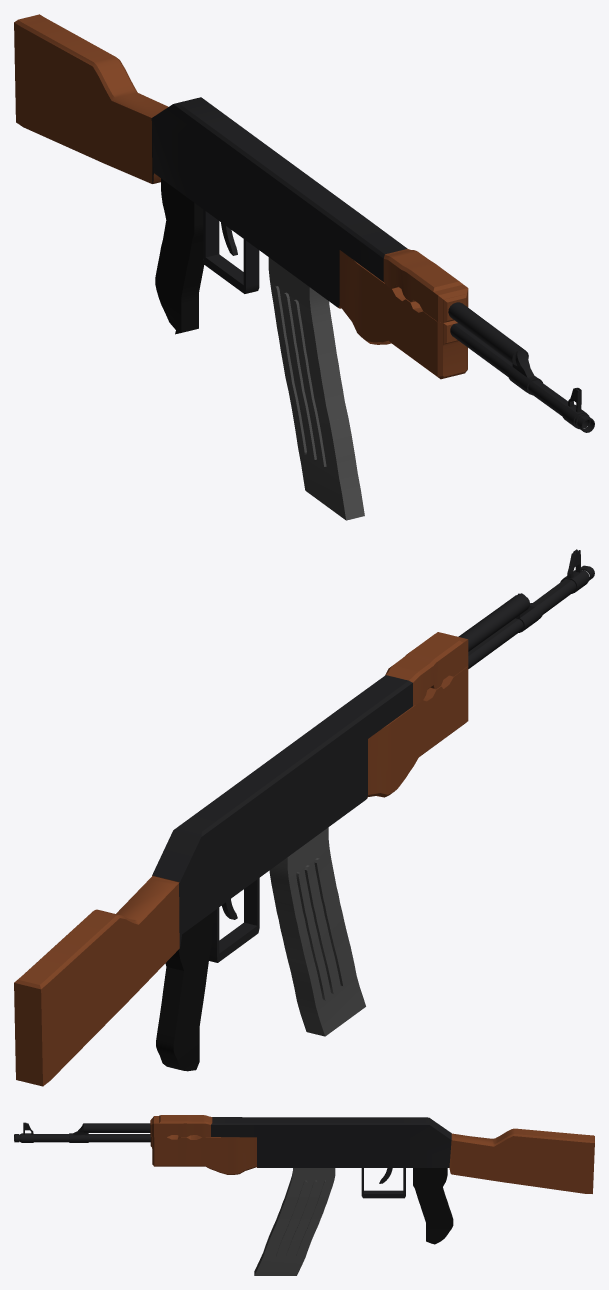
The picture shows the model from 3 angles, top to bottom: view 1: azimuth 30°, elevation 25°; view 2: azimuth 150°, elevation 25°; view 3: azimuth 270°, elevation 25°; orthographic projection. The views are drawn at different scales.
Visible parts, largest first — view 1: Cube; view 2: Cube; view 3: Cube.
Part boxes in pixels (x1,y1,x2,y2): Cube: (14, 14, 594, 520); Cube: (14, 549, 594, 1086); Cube: (14, 1115, 594, 1275).
Bounding box in the file's own units: 223 × 2041 × 6912.
